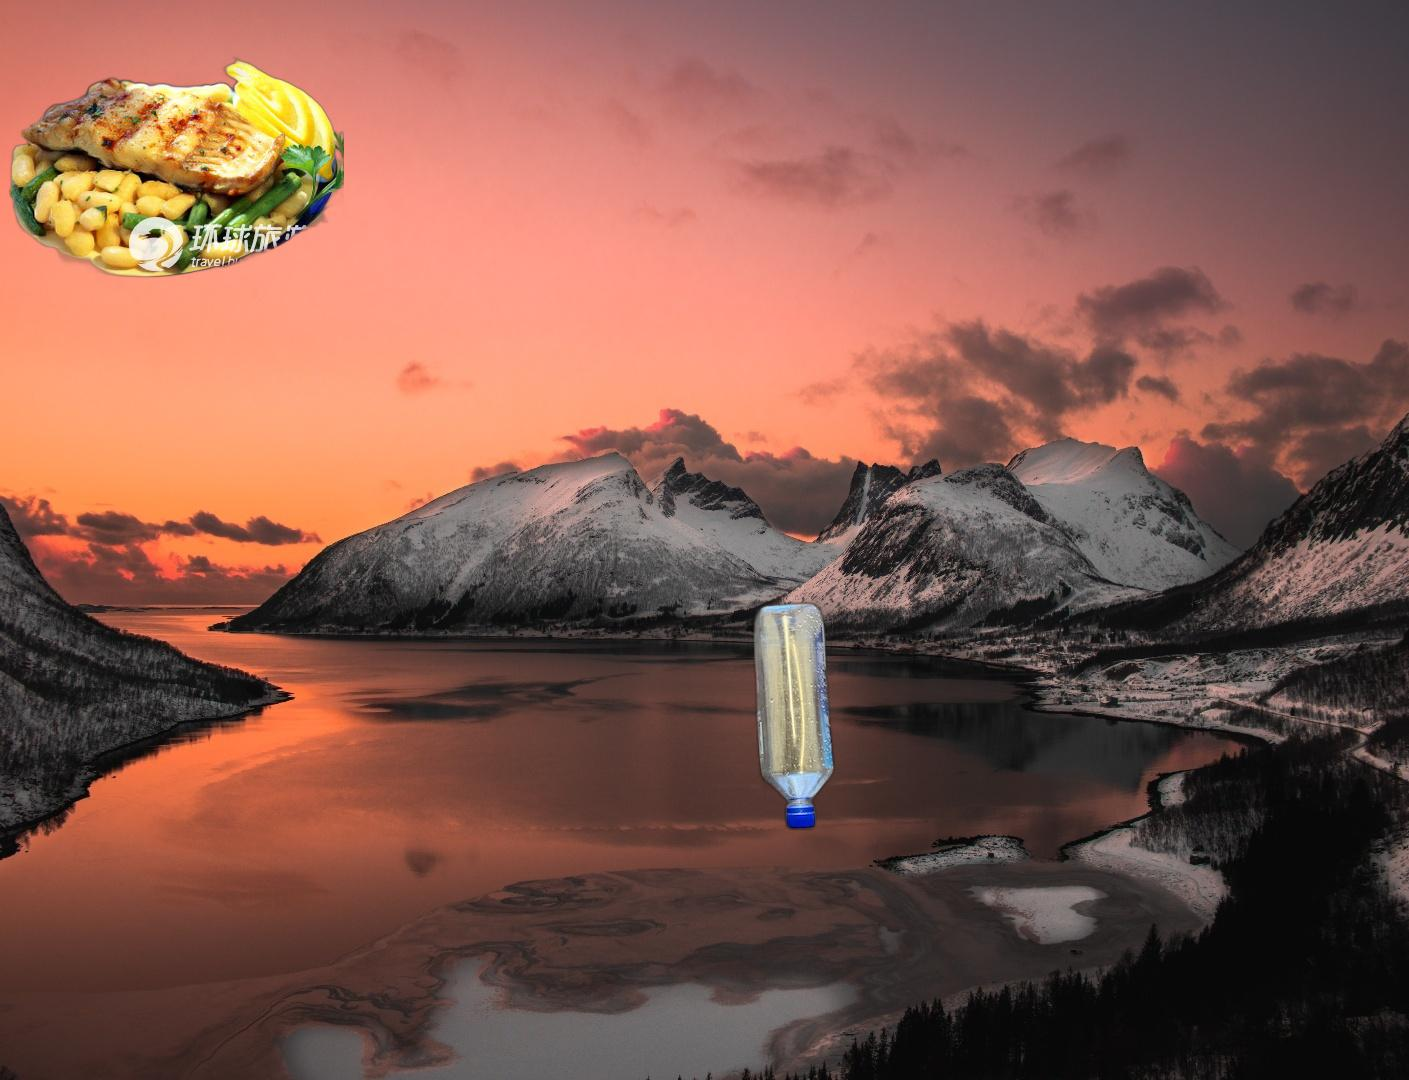biological: (8, 54, 344, 279)
plastic-bottles: (749, 596, 840, 836)
